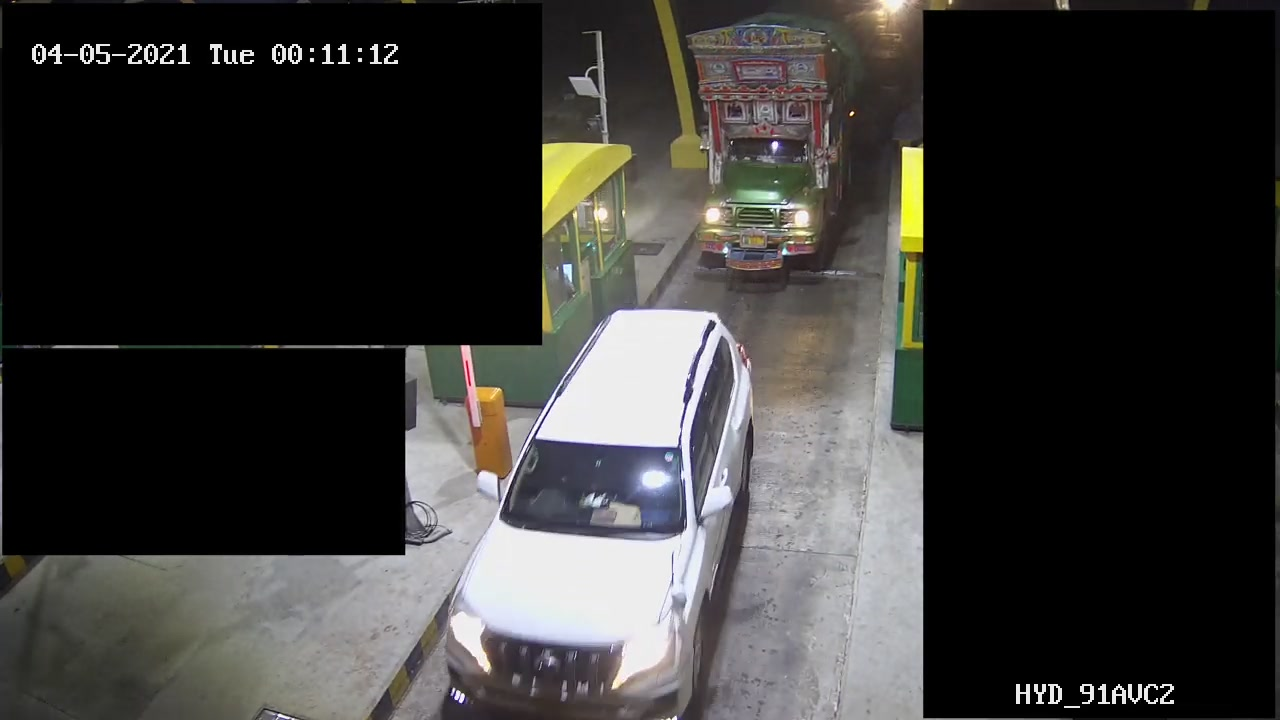F5: (675, 1, 889, 269)
